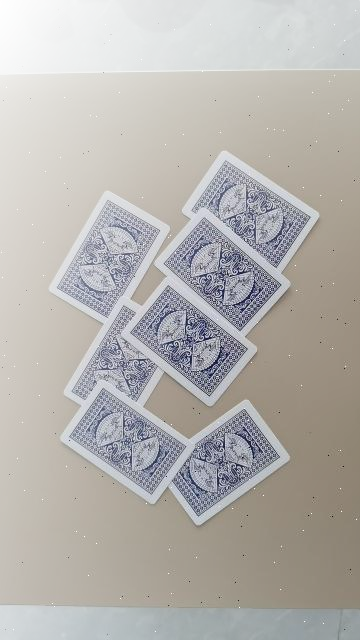card: (122, 278, 256, 405), (155, 209, 290, 335), (61, 380, 194, 504), (182, 151, 319, 271), (49, 191, 170, 322), (170, 400, 290, 525), (64, 298, 162, 404)
